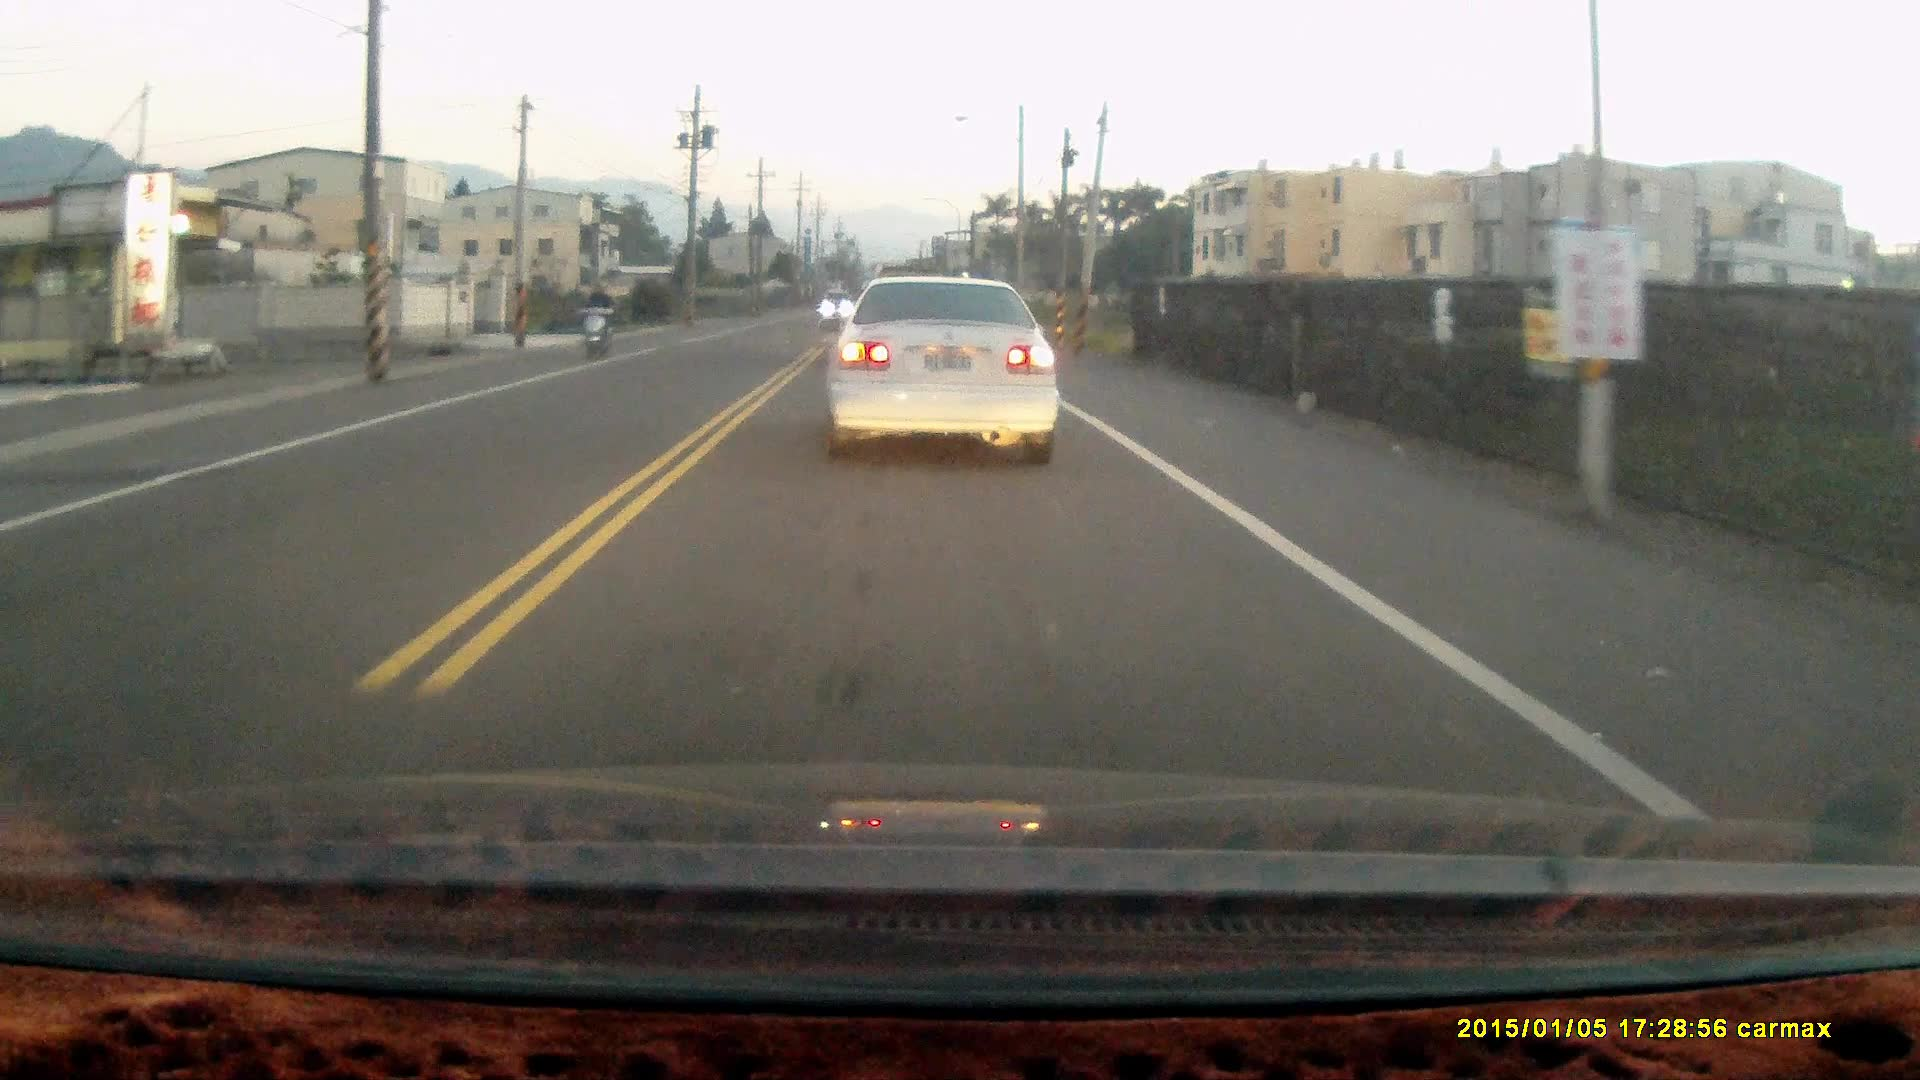rider: (577, 276, 614, 363)
vehicle: (824, 267, 1070, 465)
